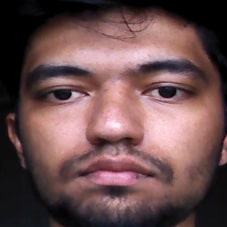awake: (23, 55, 214, 211)
